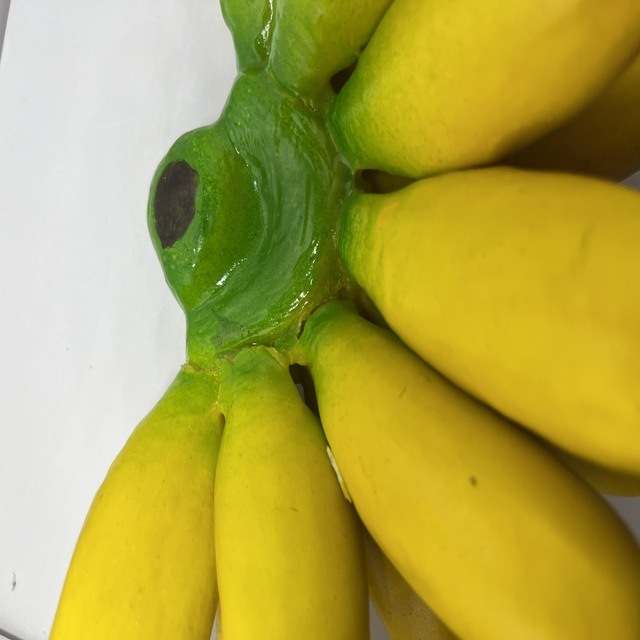Chuoi: (42, 0, 640, 640)
